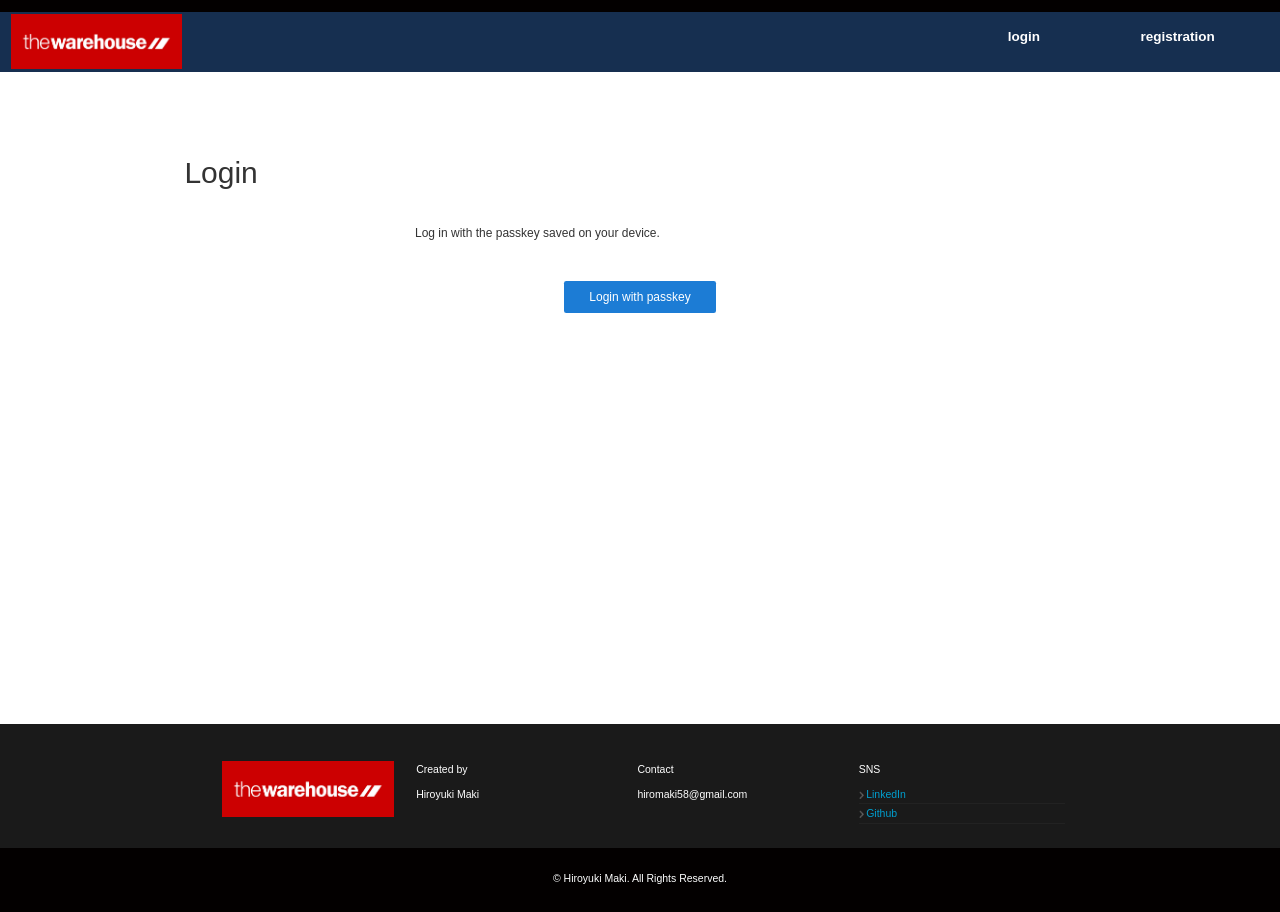
Test: LoginPage › stays on the page with a message when the result is cancelled
Step 1. Click the button "Login with passkey" → click(640, 297), box [564, 281, 716, 313]
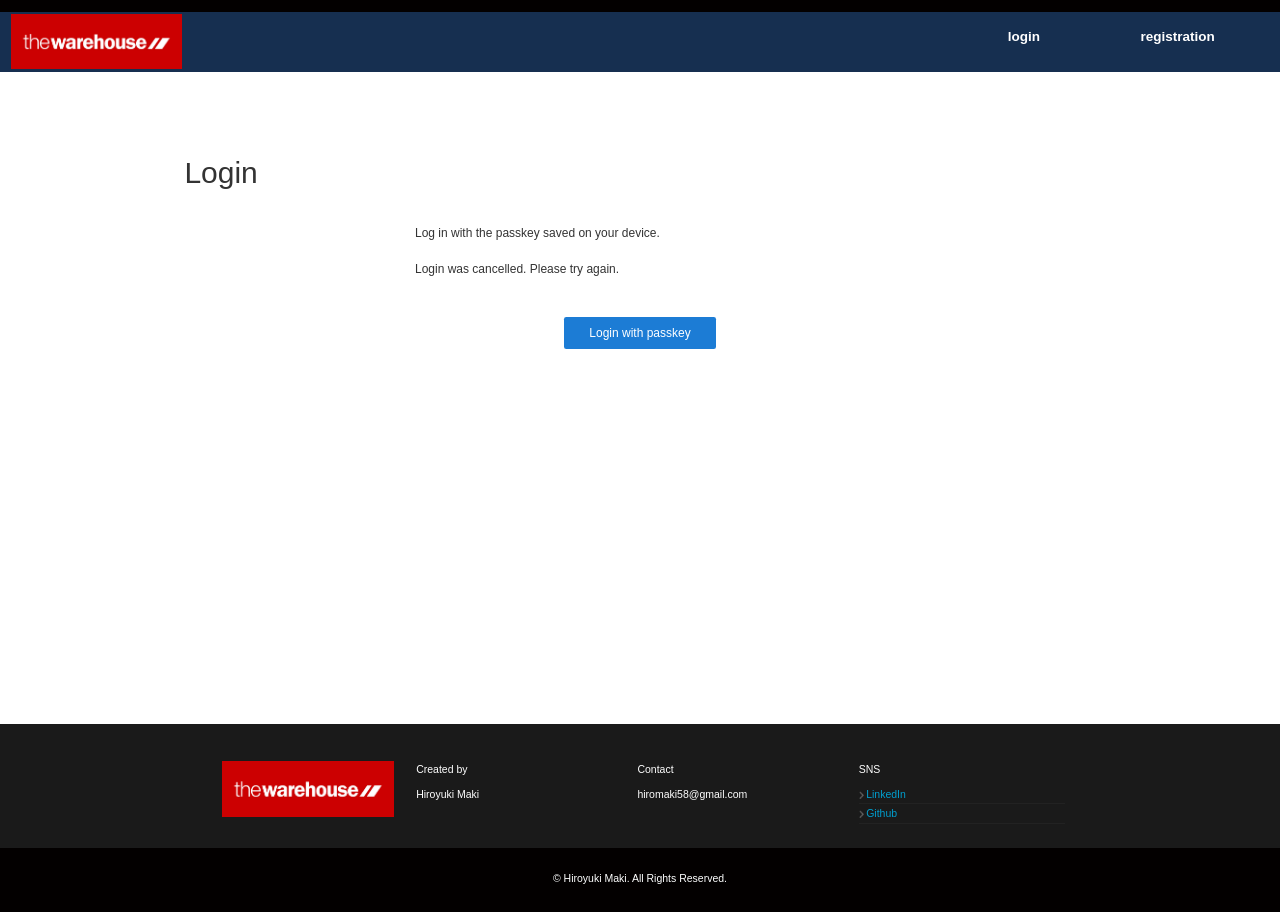
Expected: the button "Login with passkey" is enabled, [564, 317, 716, 349]
Now the message shows "cancelled", box [415, 262, 619, 276]
